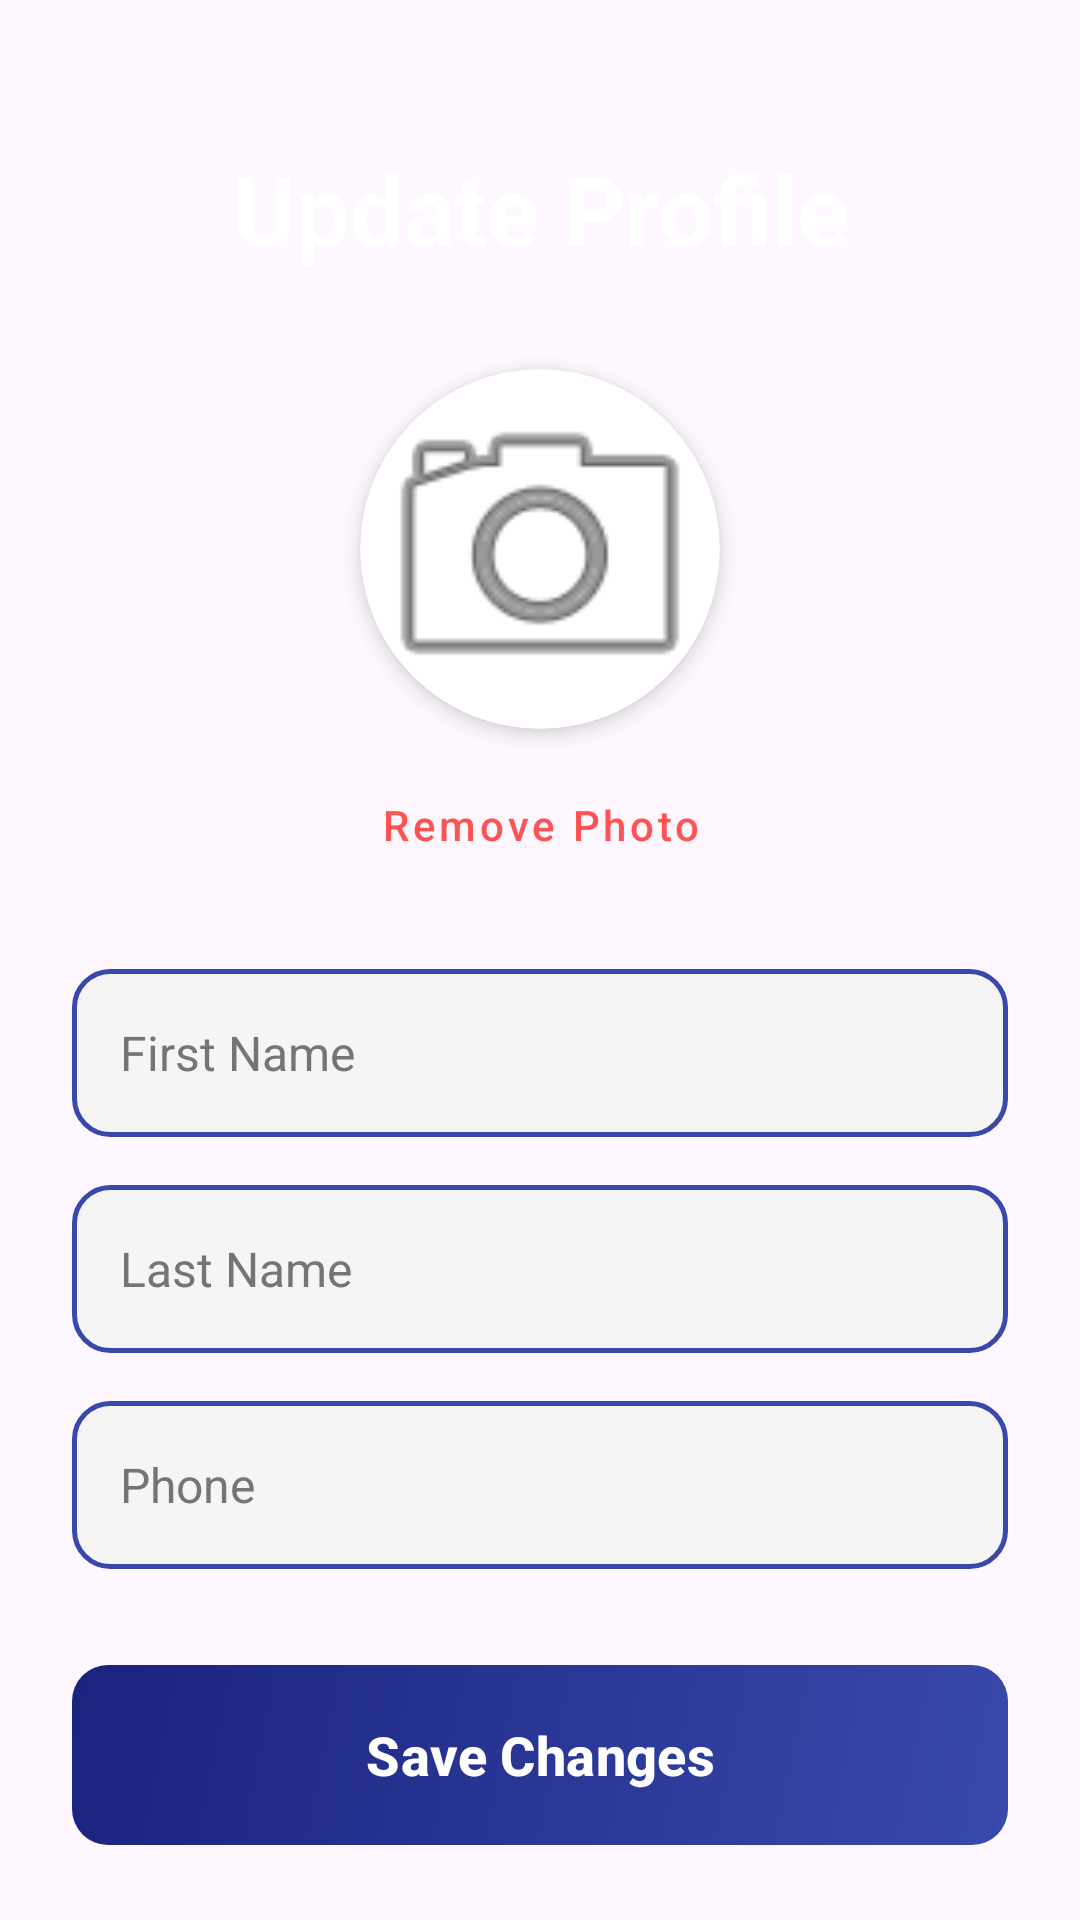

Screen size 1080px×1920px. Icon name, then its box in pixels as (x1, y1, x2, y2):
camera: (360, 369, 720, 729)
